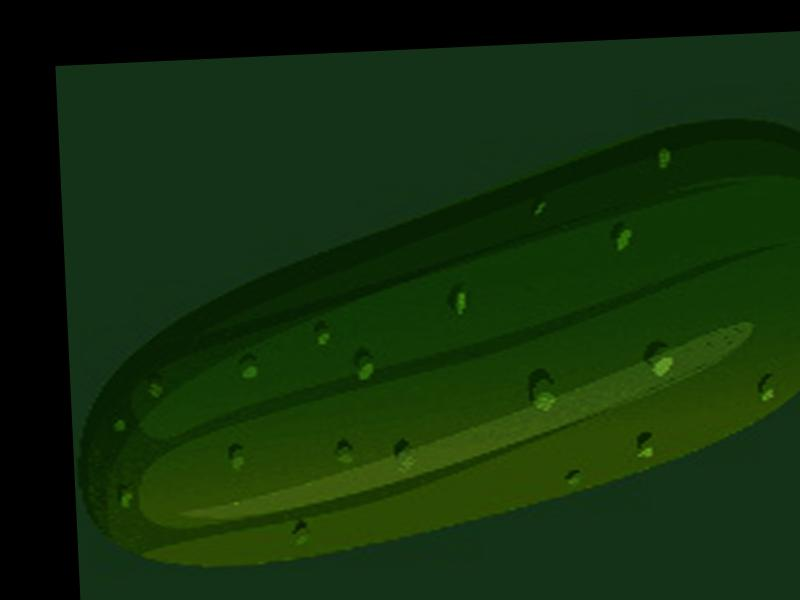Cucumber: (65, 112, 800, 572)
